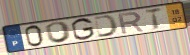0: (24, 25, 45, 48)
D: (93, 14, 121, 39)
G: (70, 17, 96, 41)
O: (45, 21, 74, 44)
R: (117, 11, 146, 35)
T: (144, 7, 163, 31)
